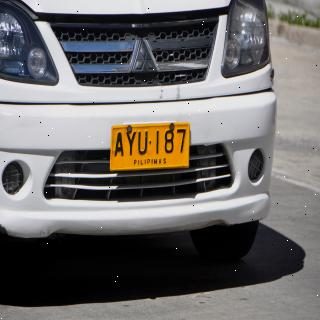license: (111, 123, 190, 172)
